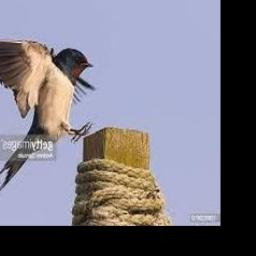Swallow: (0, 39, 96, 217)
